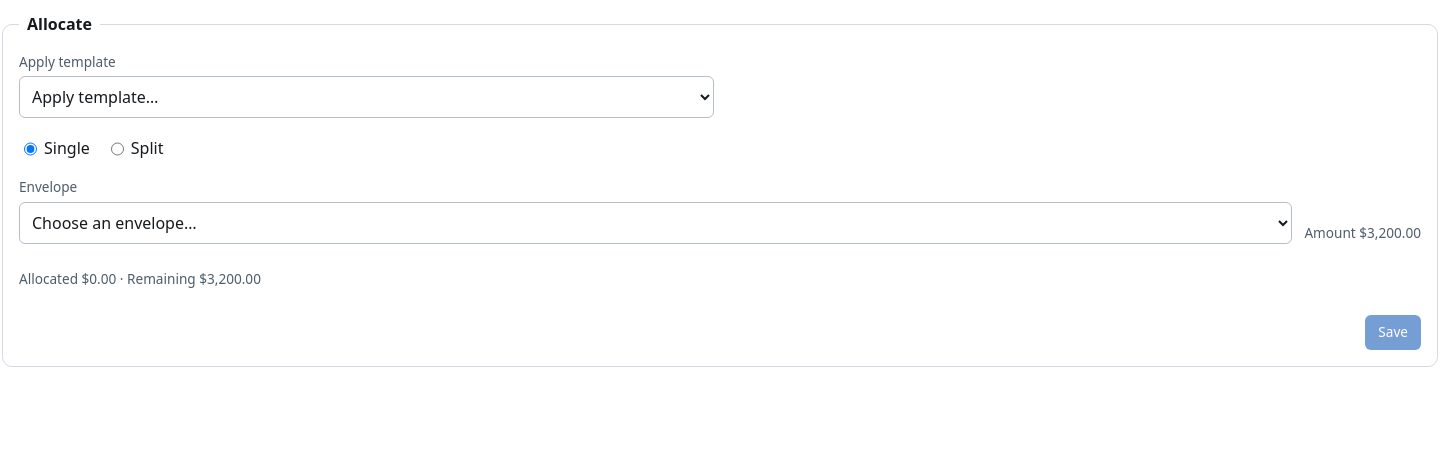
Scenario: AllocationEditor accelerators (Slice 2) › applying a template pre-fills the split rows
This screenshot has width=1440, height=452.
Select "Paycheck" in the dropdown labelled "Apply template". click: (366, 97)
box: [19,76,714,118]
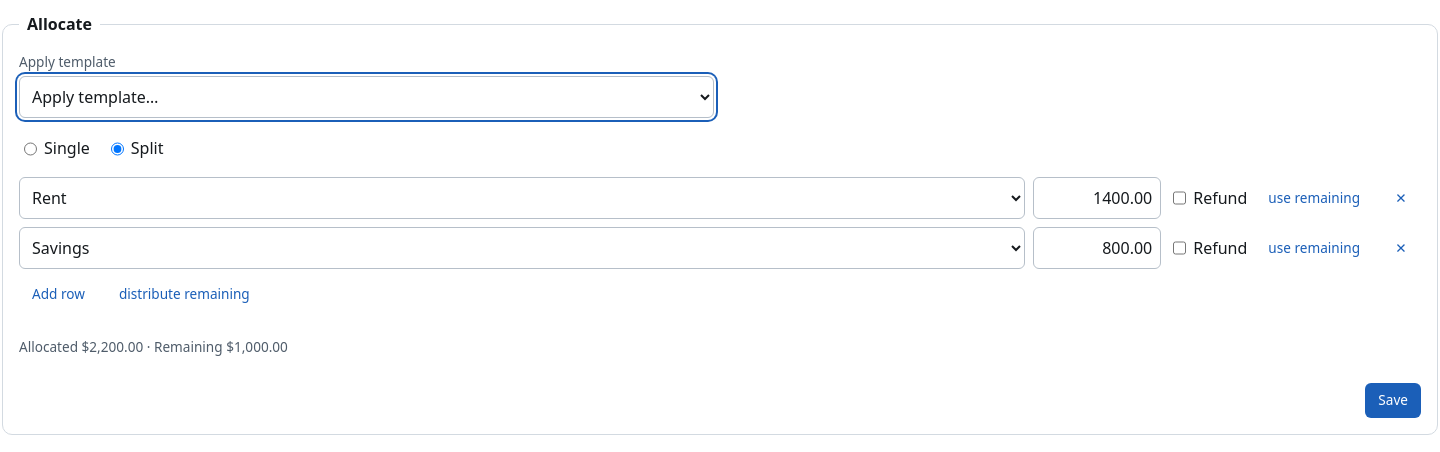
Expected: the field named "Amount for row 1" holds "1400.00", [1033,177,1161,219]
Expected: the field named "Amount for row 2" holds "800.00", [1033,227,1161,269]
Expected: the text "Allocated $2,200.00 · Remaining $1,000.00" is shown, [19,337,288,356]
